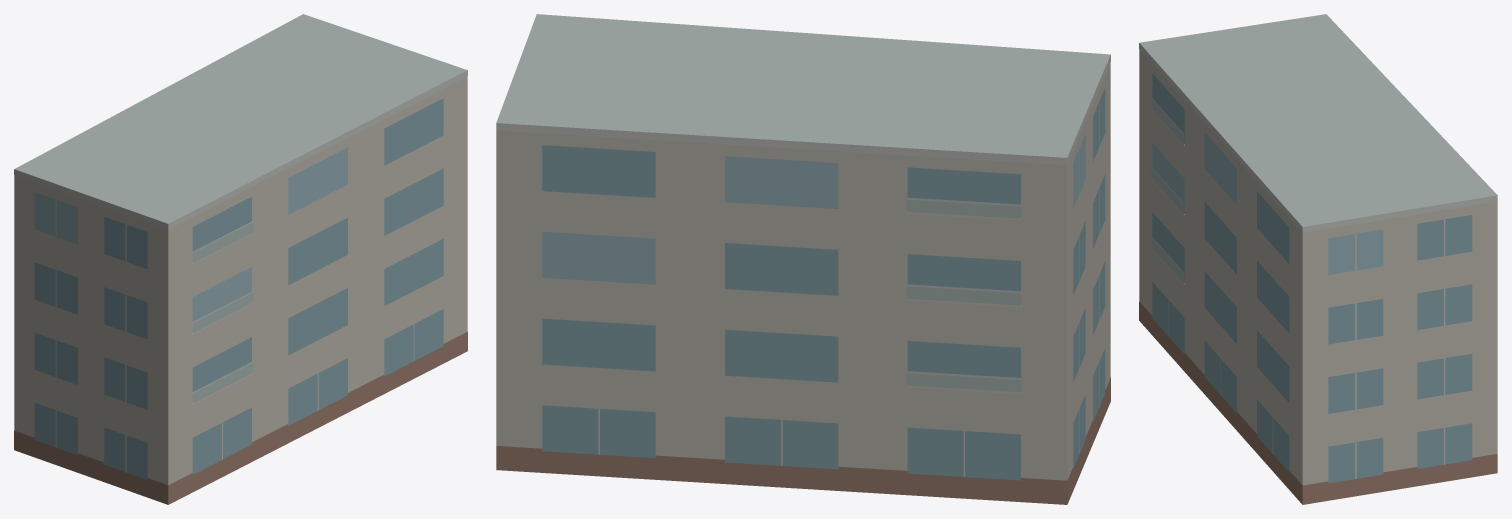
The model's file is survey-upis-32886950.glb.
3 renders of one model, left to right at view 1: azimuth 30°, elevation 25°; view 2: azimuth 150°, elevation 25°; view 3: azimuth 270°, elevation 25°, orthographic. The views are drawn at different scales.
Parts seen in each view (by area): view 1: survey-upis-32886950.tmp; view 2: survey-upis-32886950.tmp; view 3: survey-upis-32886950.tmp.
Boxes of the visible parts, box(x1,y1,x2,y2) form: survey-upis-32886950.tmp: box(14, 14, 467, 504); survey-upis-32886950.tmp: box(496, 14, 1110, 504); survey-upis-32886950.tmp: box(1139, 14, 1497, 504).
Size of the model in its own units: 18.92 by 11.5 by 13.46.
